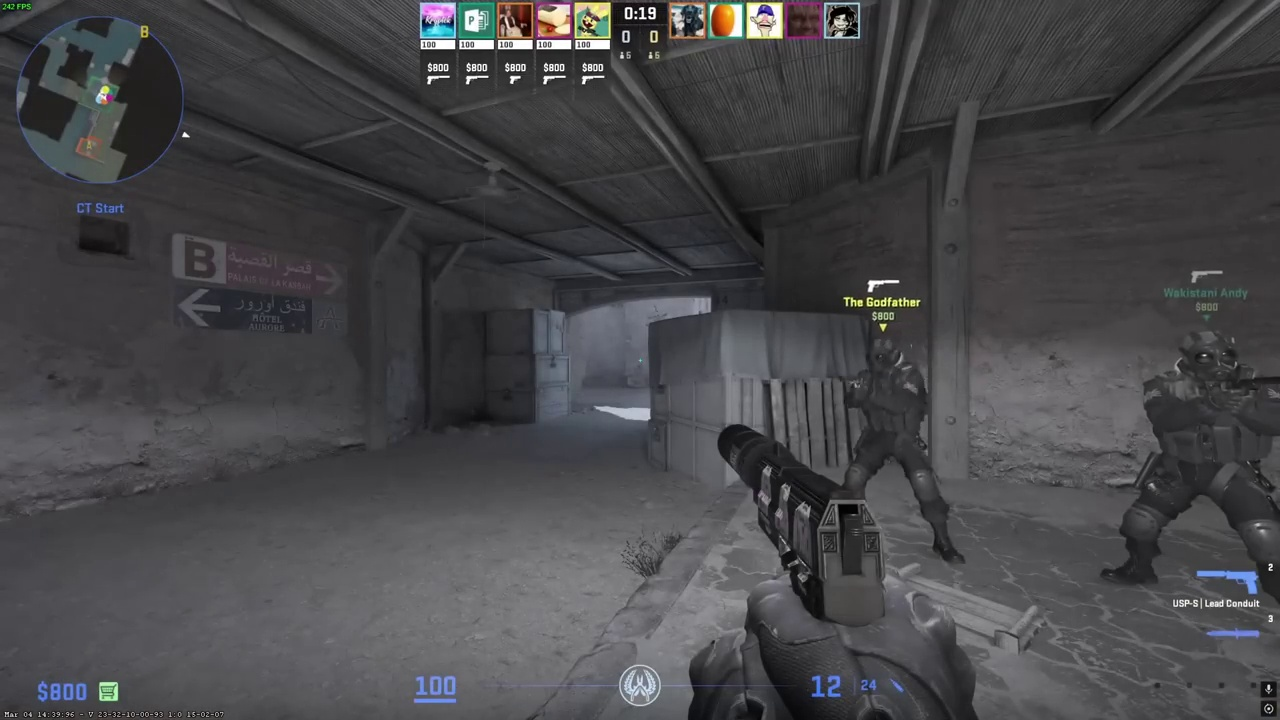CT: (1118, 329, 1280, 607), (839, 338, 959, 567)
